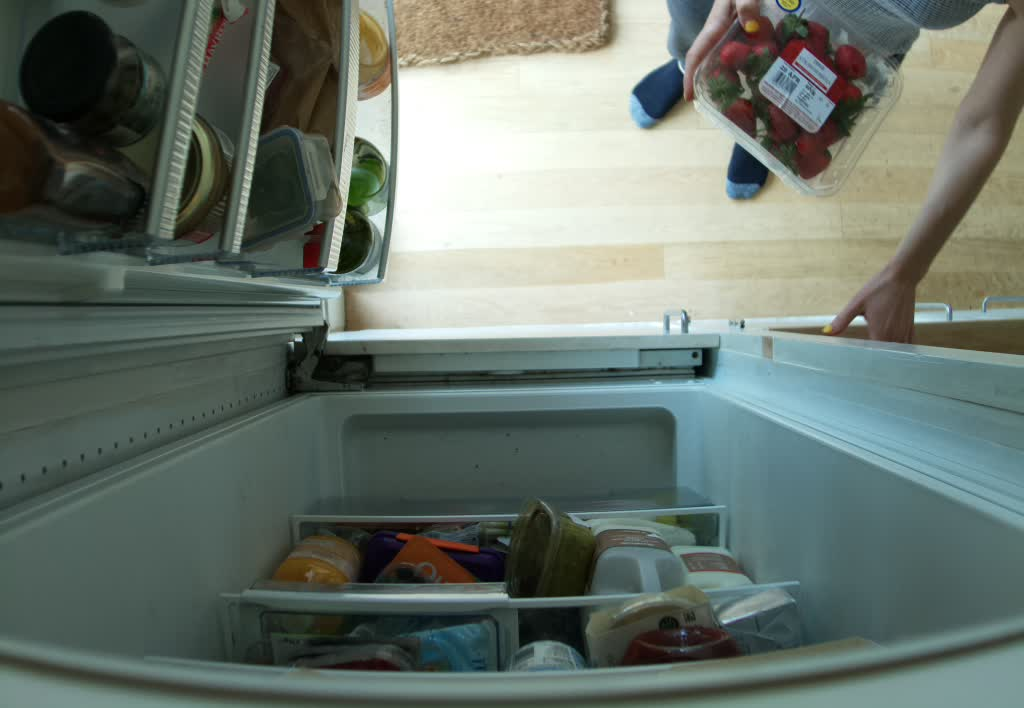soft-fruit: (691, 1, 905, 191)
